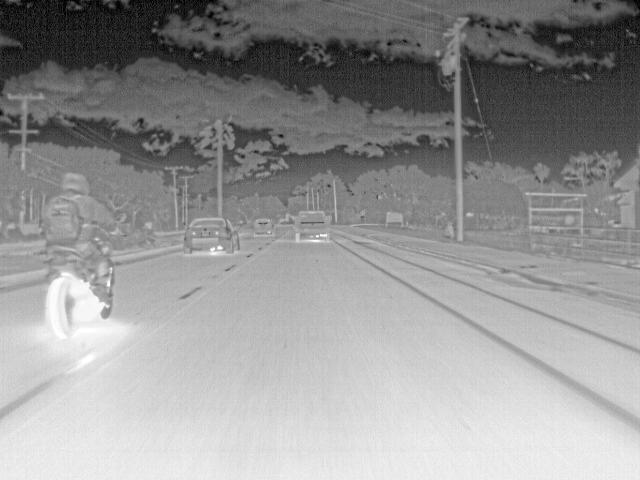car: (182, 216, 240, 253), (293, 210, 329, 243), (250, 216, 272, 234)
person: (44, 170, 111, 264), (434, 209, 449, 243)
